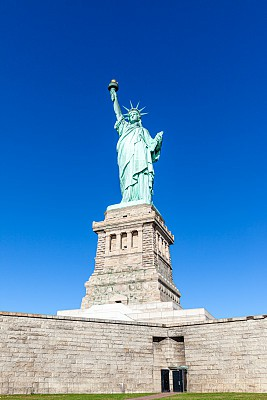SL: (80, 79, 180, 309)
